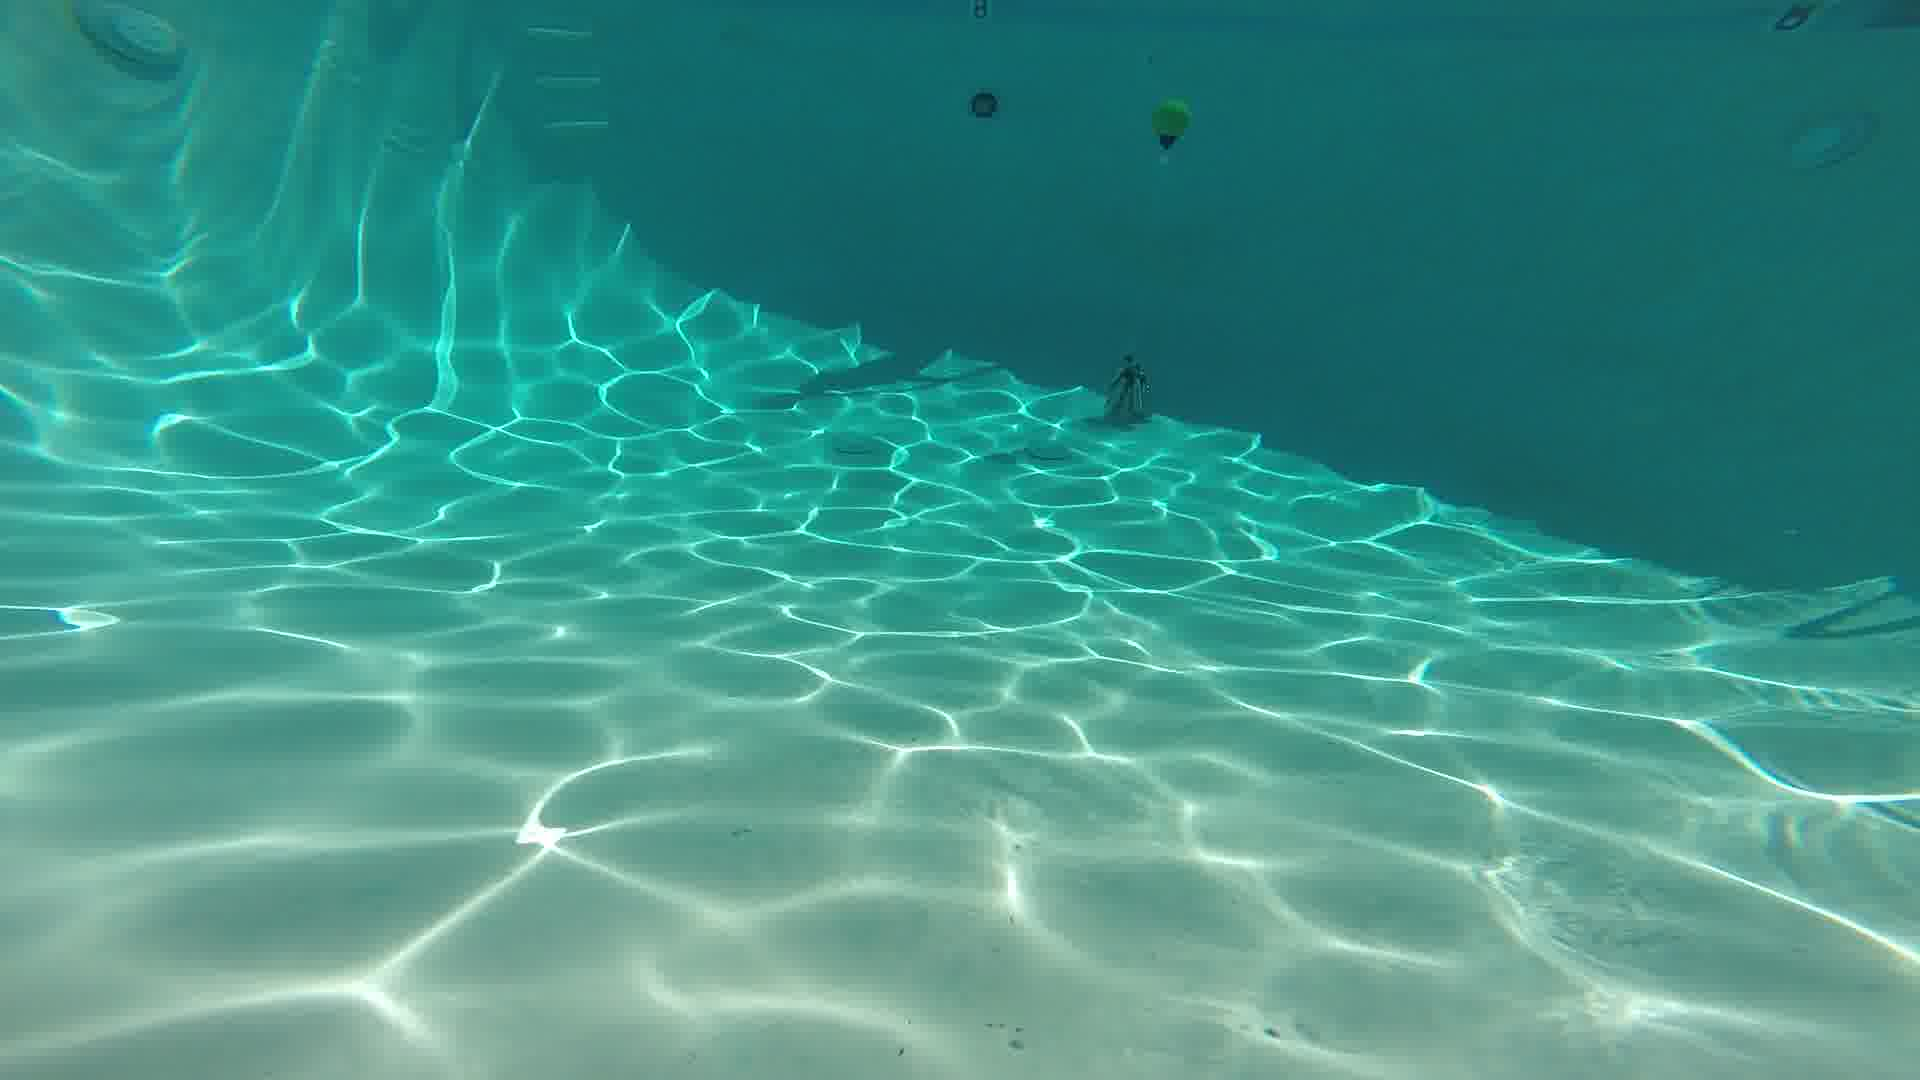yellow buoy: (1153, 90, 1192, 162)
